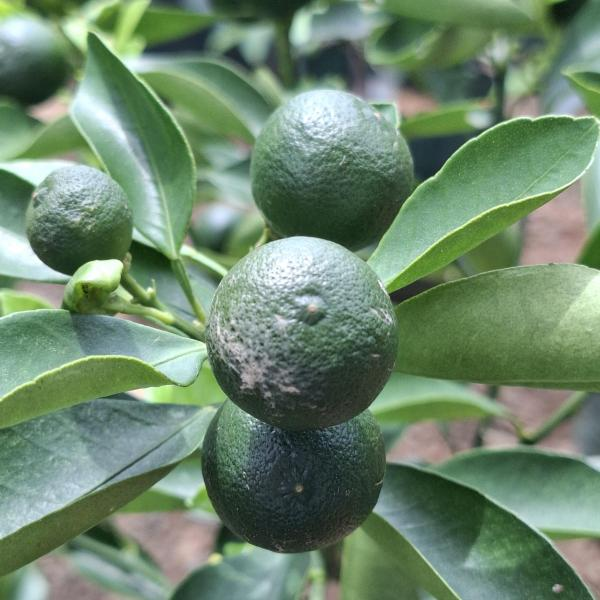Scab: (196, 240, 414, 430), (190, 394, 398, 560), (241, 87, 431, 258), (22, 159, 147, 283)
